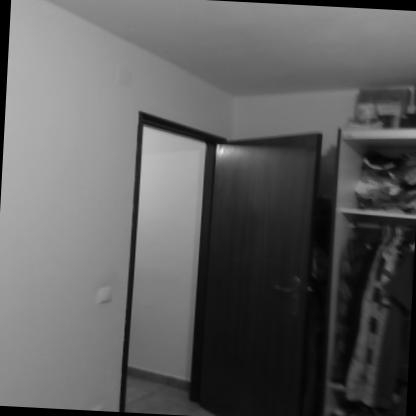open: (105, 100, 341, 416)
